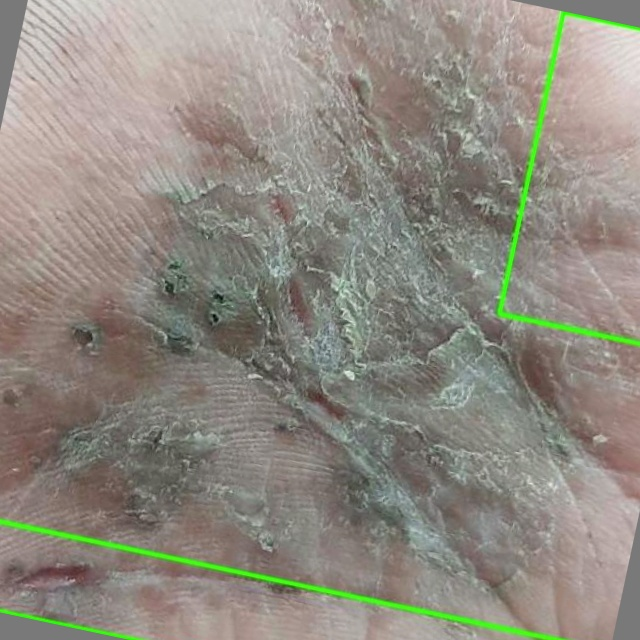Eczema: (499, 12, 639, 343)
